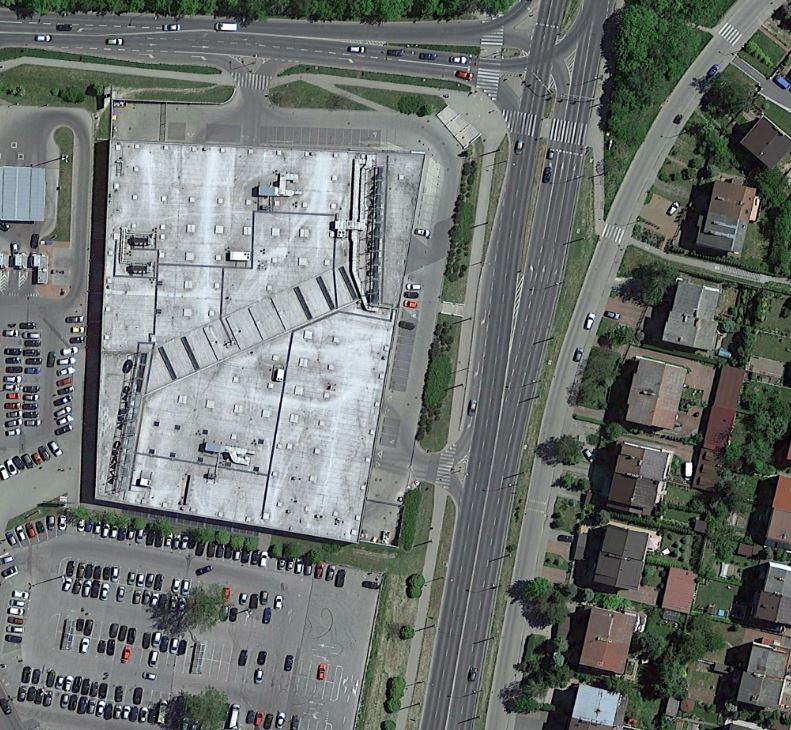family house: (681, 168, 771, 264), (649, 267, 734, 357), (615, 353, 697, 442), (601, 439, 682, 523), (568, 598, 650, 678), (584, 517, 661, 592), (730, 636, 790, 713), (567, 676, 624, 730)
shopping_center: (80, 86, 419, 556)
